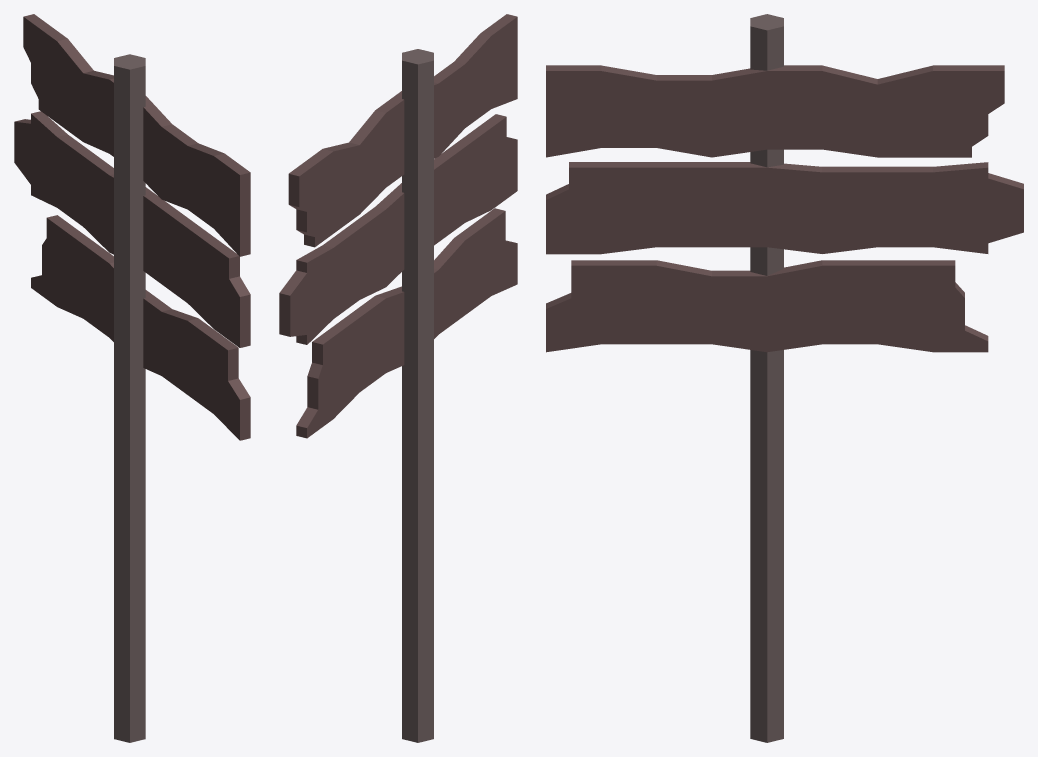
Rendered from start_menu_post.fbx.
The picture shows the model from 3 angles, left to right: view 1: azimuth 30°, elevation 25°; view 2: azimuth 150°, elevation 25°; view 3: azimuth 270°, elevation 25°; orthographic projection. The views are drawn at different scales.
Parts seen in each view (by area): view 1: pCylinder1, pCube2, pCube3, pCube1; view 2: pCylinder1, pCube2, pCube3, pCube1; view 3: pCube2, pCube3, pCube1, pCylinder1.
Part boxes in pixels (<box>): pCylinder1: <box>114,54,145,742</box>; pCube2: <box>14,111,250,347</box>; pCube3: <box>23,14,250,256</box>; pCube1: <box>31,215,250,440</box>; pCylinder1: <box>402,49,433,742</box>; pCube2: <box>279,114,517,344</box>; pCube3: <box>288,14,517,247</box>; pCube1: <box>296,208,517,438</box>; pCube2: <box>546,162,1023,254</box>; pCube3: <box>546,65,1004,157</box>; pCube1: <box>546,260,988,352</box>; pCylinder1: <box>750,14,783,742</box>.
Bounding box in the file's own units: 0.4755 × 9.46 × 5.75.
